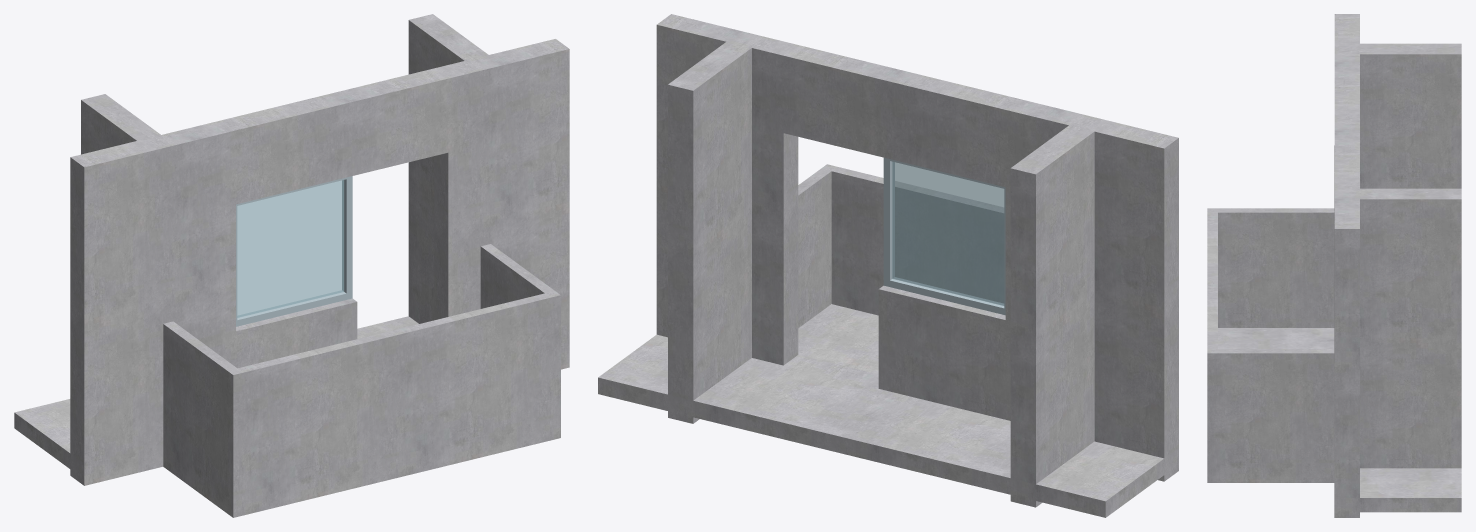
File: projecting.glb
The picture shows the model from 3 angles, left to right: view 1: azimuth 30°, elevation 25°; view 2: azimuth 150°, elevation 25°; view 3: azimuth 270°, elevation 25°; orthographic projection. The views are drawn at different scales.
Visible parts, largest first — view 1: 主体墙, 栏板, 窗, 楼板; view 2: 主体墙, 楼板, 栏板, 窗; view 3: 主体墙, 栏板, 楼板.
Boxes of the visible parts, <box> form: 主体墙: <box>70,14,569,469</box>; 栏板: <box>163,244,560,501</box>; 窗: <box>236,176,352,326</box>; 楼板: <box>14,316,569,517</box>; 主体墙: <box>656,14,1178,490</box>; 楼板: <box>598,304,1178,517</box>; 栏板: <box>798,164,1003,327</box>; 窗: <box>883,157,1005,315</box>; 主体墙: <box>1334,14,1461,503</box>; 栏板: <box>1207,208,1334,468</box>; 楼板: <box>1207,328,1461,517</box>.
Size of the model in its own units: 4.8 by 3.01 by 2.4.
5 materials, 3 textured.
